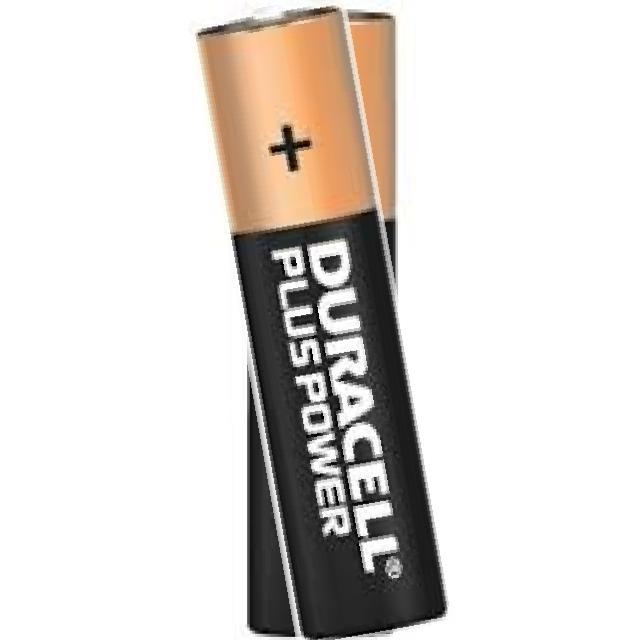Battery: (181, 0, 451, 638), (246, 351, 303, 638), (347, 5, 401, 288)
